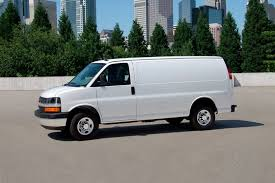van: (34, 54, 236, 141)
